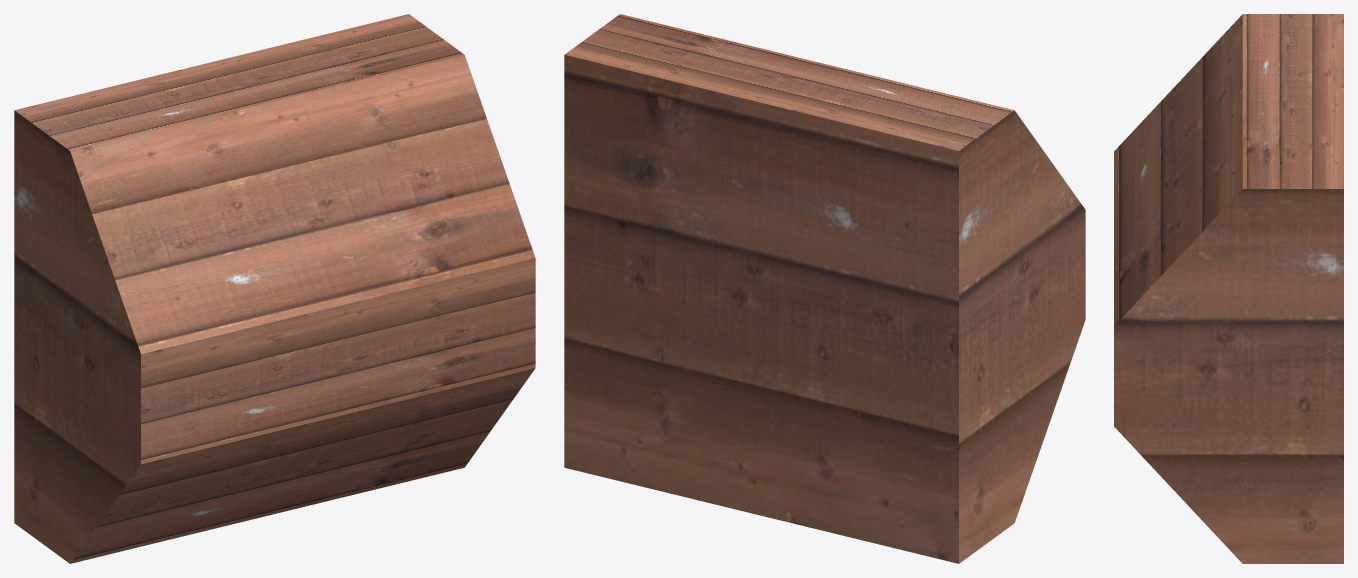
File: roof_wood.glb
3 views of the same model, side by side, from view 1: azimuth 30°, elevation 25°; view 2: azimuth 150°, elevation 25°; view 3: azimuth 270°, elevation 25° (orthographic). The views are drawn at different scales.
Visible parts, largest first — view 1: roof; view 2: roof; view 3: roof.
Part boxes in pixels (x1,y1,x2,y2): roof: (14, 14, 535, 563); roof: (564, 14, 1085, 563); roof: (1114, 14, 1343, 563).
Bounding box in the file's own units: 0.9 × 0.9 × 0.5.
Materials: 1 (1 with a texture image).
